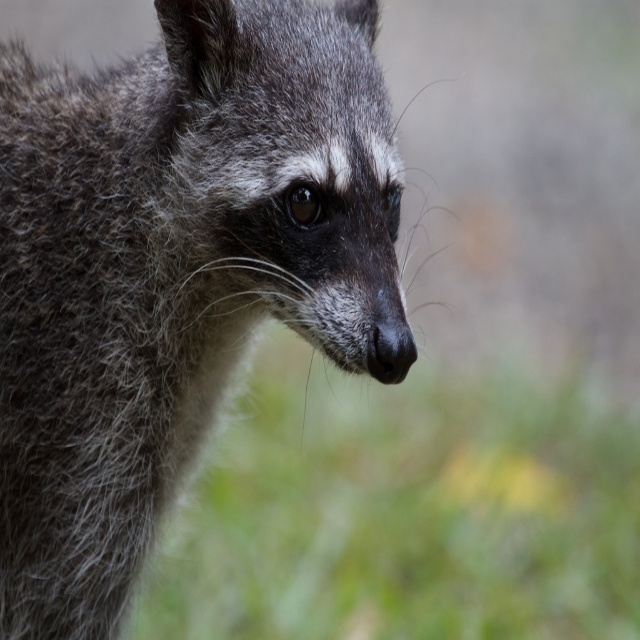Raccoon: (0, 0, 464, 639)
